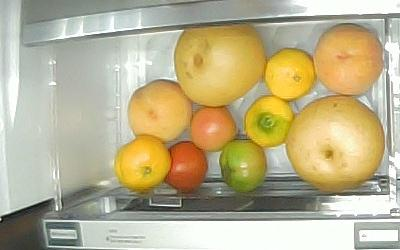peach: (313, 23, 383, 96), (127, 78, 193, 144)
pear: (285, 95, 384, 190), (173, 22, 265, 106)
tangerine: (113, 136, 171, 190), (265, 47, 315, 101), (244, 95, 292, 147)
tomato: (219, 139, 266, 191), (162, 140, 206, 193), (190, 106, 235, 151)
